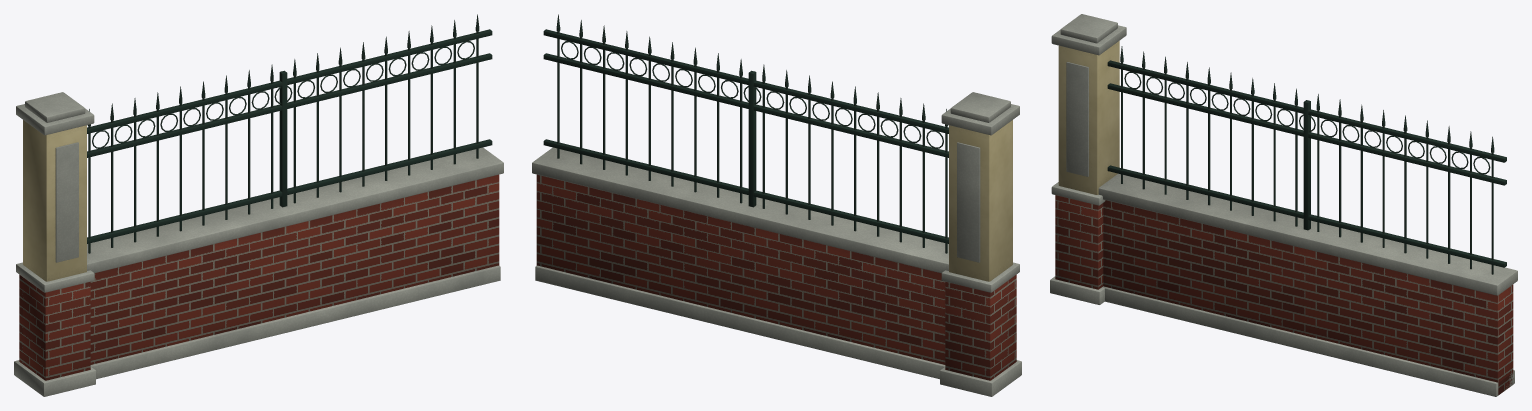
File: CTCC_ENV_CourtyardFenceBay.fbx
3 renders of one model, left to right at view 1: azimuth 30°, elevation 25°; view 2: azimuth 150°, elevation 25°; view 3: azimuth 330°, elevation 25°, orthographic. The views are drawn at different scales.
Parts seen in each view (by area): view 1: CTCC_ENV_CourtyardFenceBay_LOD0; view 2: CTCC_ENV_CourtyardFenceBay_LOD0; view 3: CTCC_ENV_CourtyardFenceBay_LOD0.
Boxes of the visible parts, x1,y1,x2,y2 form: CTCC_ENV_CourtyardFenceBay_LOD0: (14, 14, 503, 396); CTCC_ENV_CourtyardFenceBay_LOD0: (532, 14, 1021, 396); CTCC_ENV_CourtyardFenceBay_LOD0: (1050, 14, 1517, 396).
Size of what is drawn, in the model's own units: 4.07 by 2.31 by 0.46.
